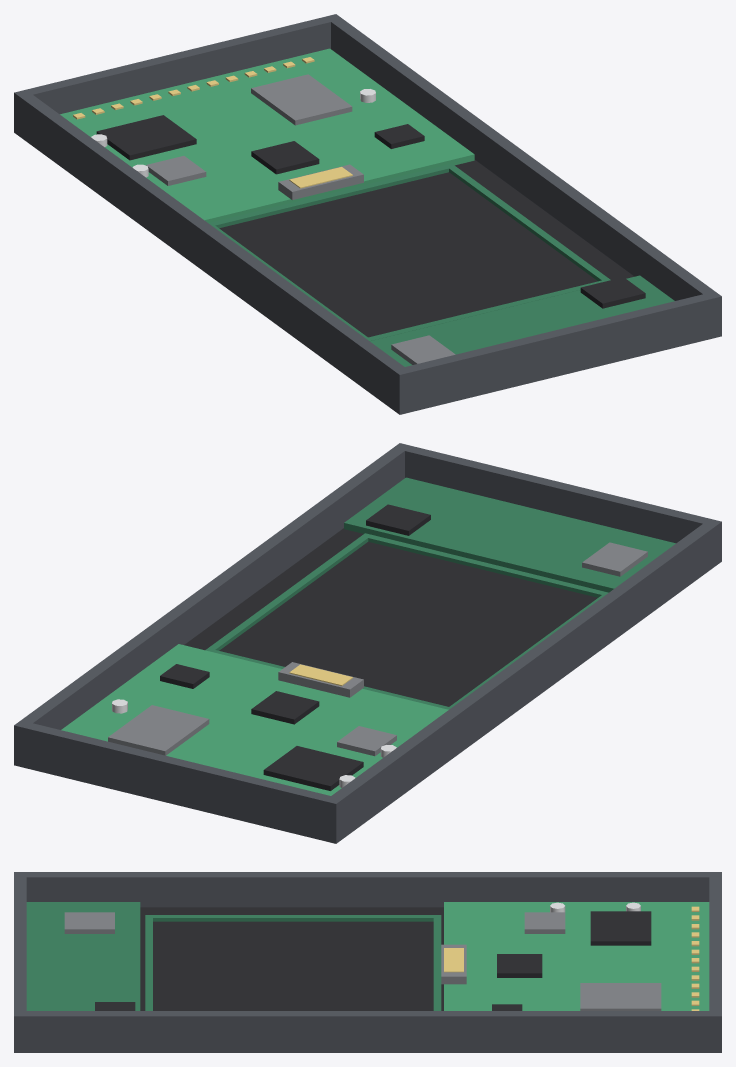
File: phone-body.glb
3 views of the same model, one above another, from view 1: azimuth 30°, elevation 25°; view 2: azimuth 150°, elevation 25°; view 3: azimuth 270°, elevation 25° (orthographic). The views are drawn at different scales.
Visible parts, largest first — view 1: body; view 2: body; view 3: body.
Boxes of the visible parts, bbox=[...] form: body: bbox=[14, 14, 721, 414]; body: bbox=[14, 443, 721, 843]; body: bbox=[14, 872, 721, 1052].
Size of what is drawn, in the model's own units: 0.135 by 0.016 by 0.28.
